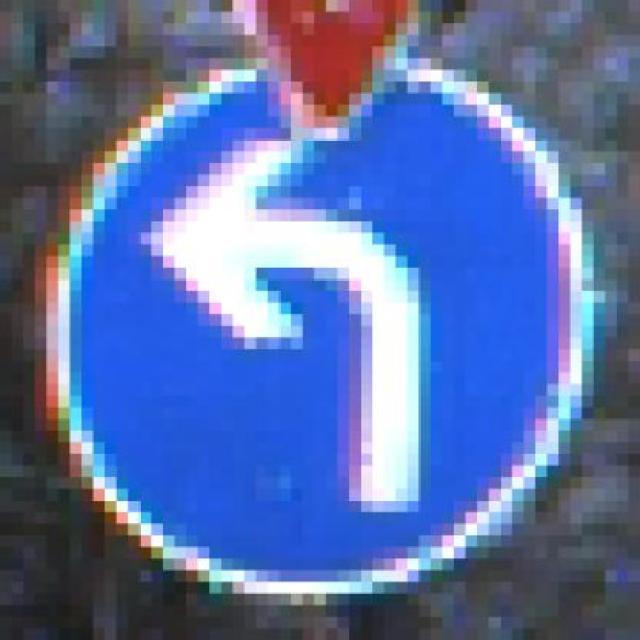Turn left ahead: (46, 47, 617, 605)
